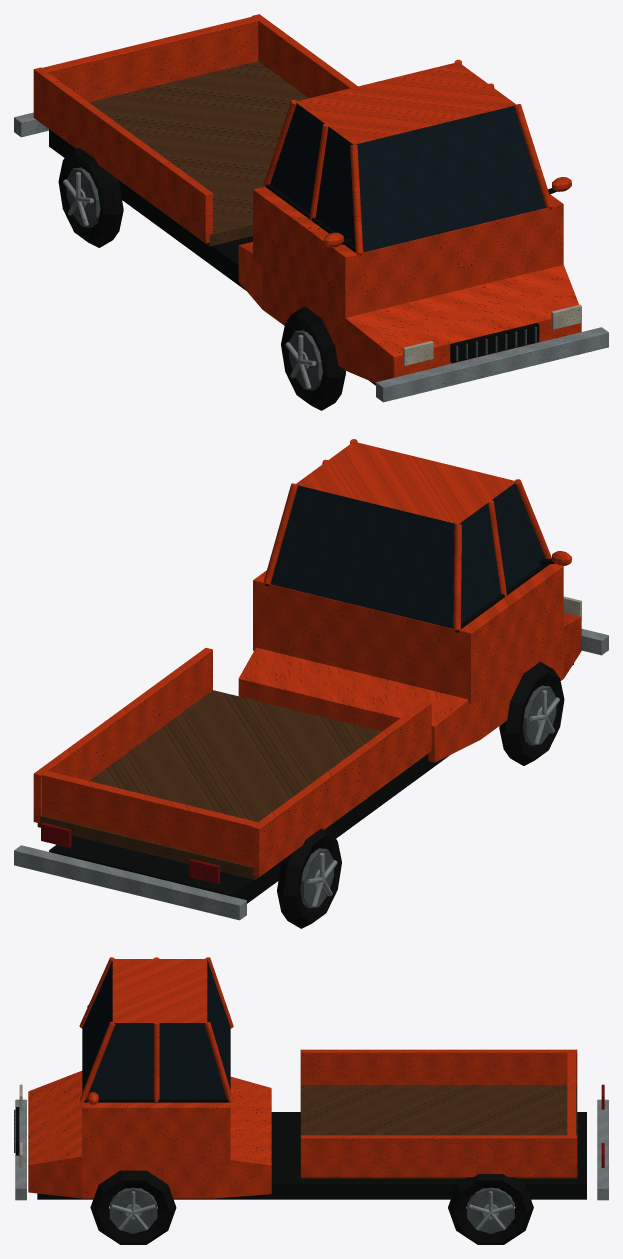
Rendered from PROP-532EF1E6365B_lod1.glb.
3 views of the same model, one above another, from view 1: azimuth 30°, elevation 25°; view 2: azimuth 150°, elevation 25°; view 3: azimuth 270°, elevation 25° (orthographic). The views are drawn at different scales.
Visible parts, largest first — view 1: sloped_cabin_glazing.006, lower_cab_shell.004, bed_deck.003, shaped_body_panels.008, bed_sides.003, roof_panel.006, tailgate.003, tire.008, bumper.008, chassis.008, window_pillars.006, rim.008 (+3 smaller); view 2: sloped_cabin_glazing.006, bed_deck.003, lower_cab_shell.004, bed_sides.003, shaped_body_panels.008, tailgate.003, roof_panel.006, chassis.008, tire.008, bumper.008, window_pillars.006, rim.008 (+2 smaller); view 3: bed_sides.003, shaped_body_panels.008, bed_deck.003, sloped_cabin_glazing.006, lower_cab_shell.004, chassis.008, tire.008, roof_panel.006, rim.008, window_pillars.006, bumper.008, rim_spokes.008 (+2 smaller).
Boxes of the visible parts, <box> form: sloped_cabin_glazing.006: <box>270,102,545,252</box>; lower_cab_shell.004: <box>253,186,563,326</box>; bed_deck.003: <box>38,61,308,246</box>; shaped_body_panels.008: <box>238,242,581,383</box>; bed_sides.003: <box>33,14,357,243</box>; roof_panel.006: <box>295,62,516,144</box>; tailgate.003: <box>39,15,259,102</box>; tire.008: <box>58,147,345,410</box>; bumper.008: <box>14,112,608,402</box>; chassis.008: <box>49,129,375,385</box>; window_pillars.006: <box>263,59,552,253</box>; rim.008: <box>66,167,322,390</box>; sloped_cabin_glazing.006: <box>270,482,545,628</box>; bed_deck.003: <box>37,690,427,879</box>; lower_cab_shell.004: <box>253,563,563,703</box>; bed_sides.003: <box>33,648,431,876</box>; shaped_body_panels.008: <box>238,612,581,762</box>; tailgate.003: <box>42,770,260,866</box>; roof_panel.006: <box>295,441,516,524</box>; chassis.008: <box>49,663,573,903</box>; tire.008: <box>277,661,564,928</box>; bumper.008: <box>14,629,608,920</box>; window_pillars.006: <box>263,439,551,630</box>; rim.008: <box>300,685,556,908</box>; bed_sides.003: <box>300,1049,577,1177</box>; shaped_body_panels.008: <box>28,1071,271,1198</box>; bed_deck.003: <box>300,1085,577,1178</box>; sloped_cabin_glazing.006: <box>82,960,230,1098</box>; lower_cab_shell.004: <box>82,1102,230,1164</box>; chassis.008: <box>37,1112,586,1199</box>; tire.008: <box>90,1170,533,1244</box>; roof_panel.006: <box>112,959,207,1022</box>; rim.008: <box>109,1187,514,1233</box>; window_pillars.006: <box>79,957,233,1102</box>; bumper.008: <box>15,1099,608,1200</box>; rim_spokes.008: <box>111,1191,513,1230</box>.
Size of the model in its own units: 2.56 by 2.6 by 6.61.
Materials: 9 (9 with a texture image).
